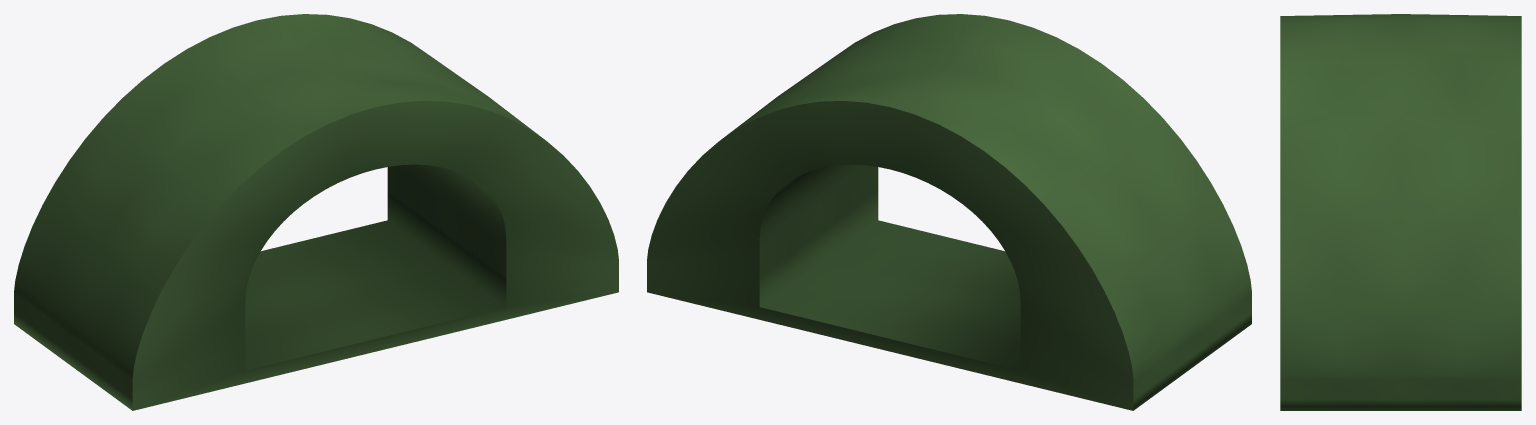
The model's file is straight_12m_terrain_lod1.glb.
The picture shows the model from 3 angles, left to right: view 1: azimuth 30°, elevation 25°; view 2: azimuth 150°, elevation 25°; view 3: azimuth 270°, elevation 25°; orthographic projection.
Visible parts, largest first — view 1: TerrainRoof.005; view 2: TerrainRoof.005; view 3: TerrainRoof.005.
Boxes of the visible parts, x1,y1,x2,y2 form: TerrainRoof.005: [14, 14, 618, 410]; TerrainRoof.005: [647, 14, 1251, 410]; TerrainRoof.005: [1280, 14, 1521, 410].
Size of the model in its own units: 28.4 by 13.65 by 12.
